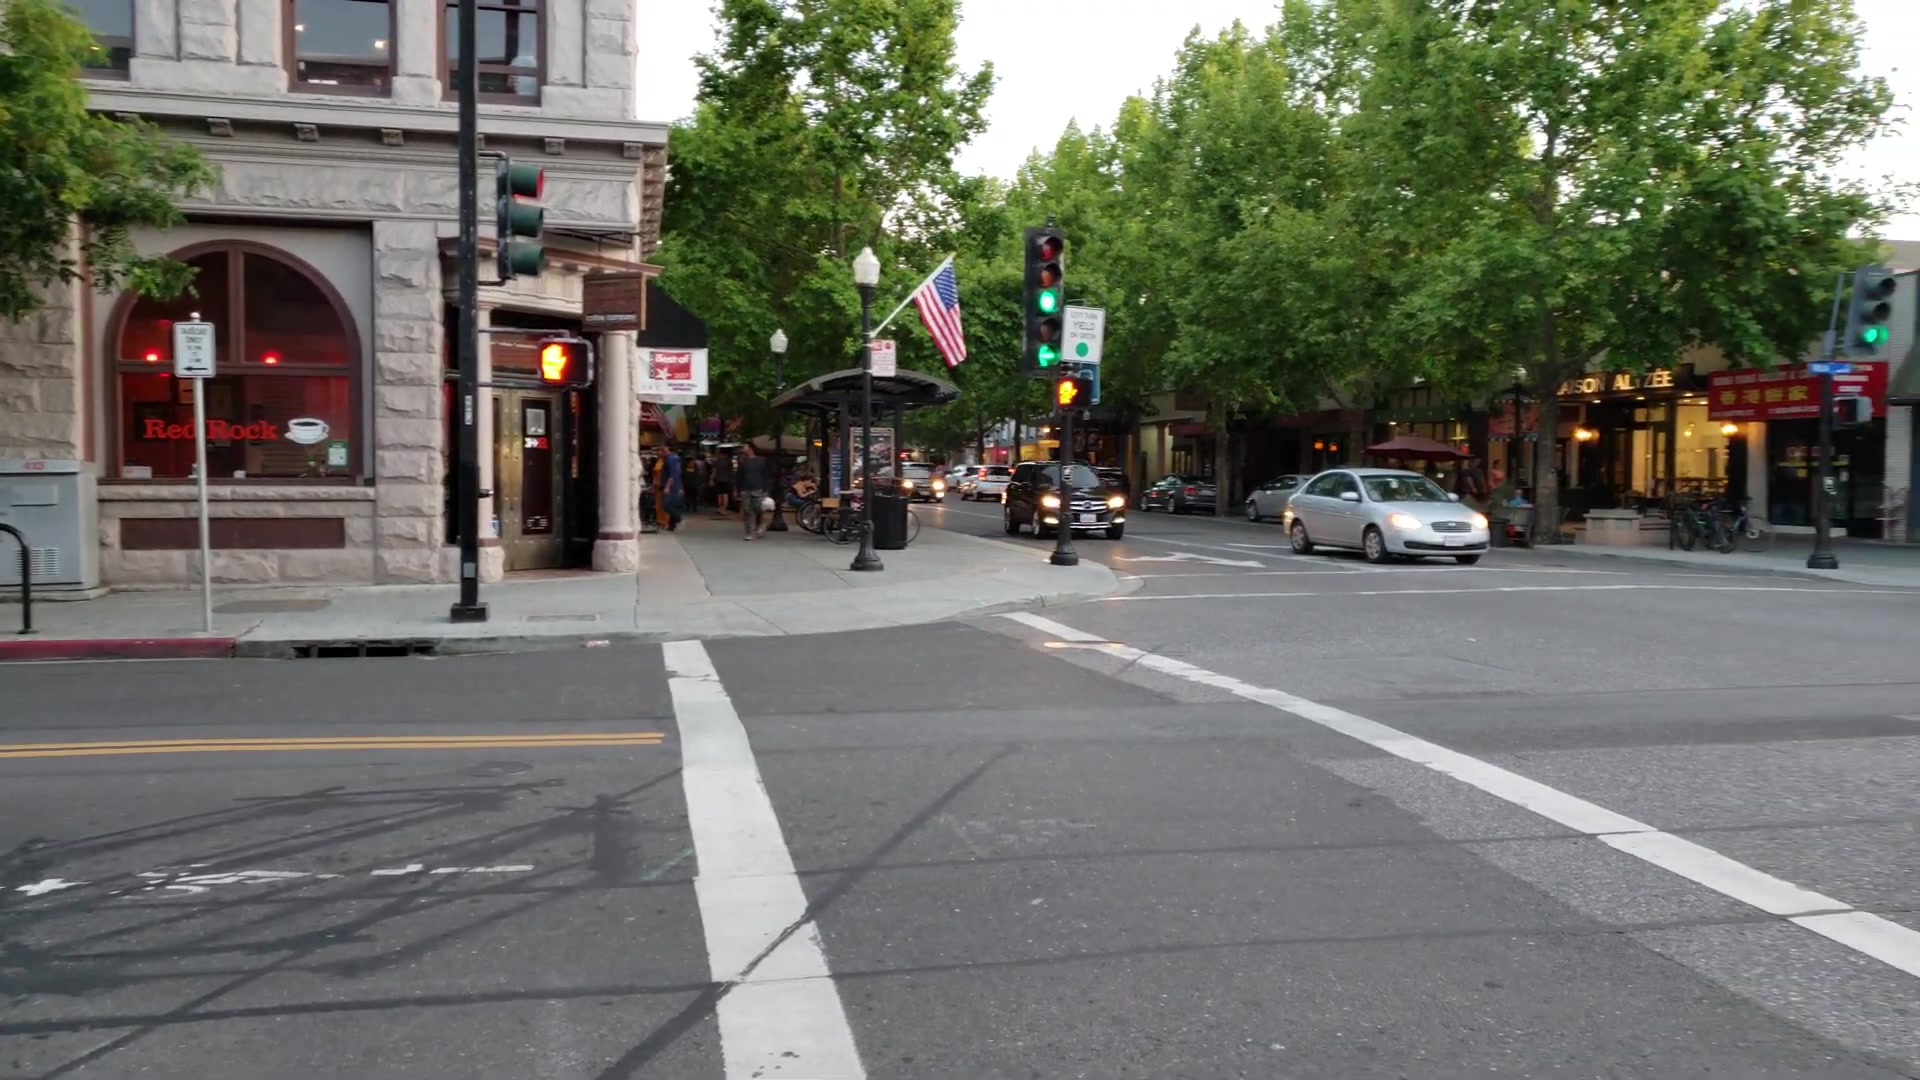vehicle: (1284, 465, 1489, 566)
